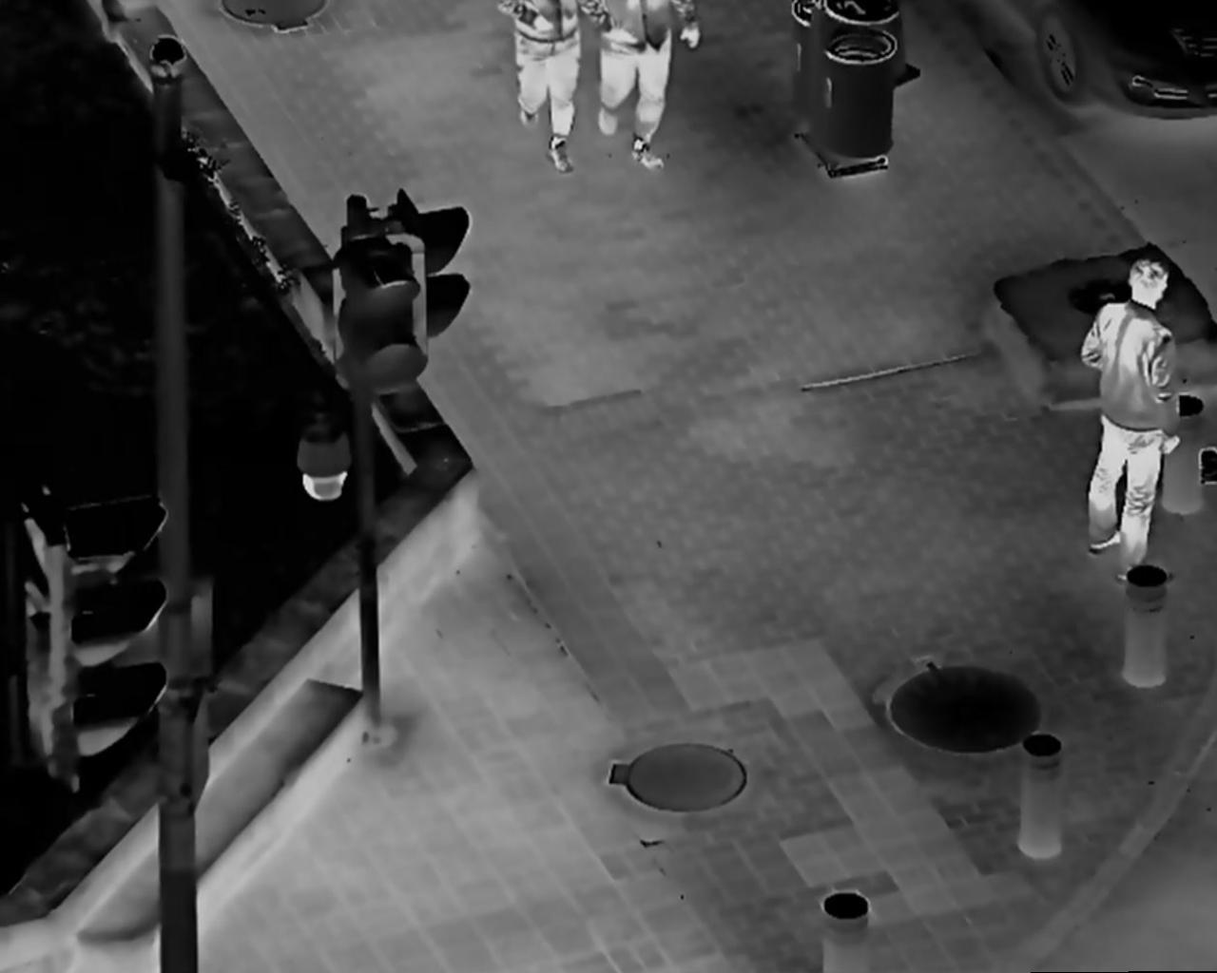person: (1071, 251, 1183, 588)
